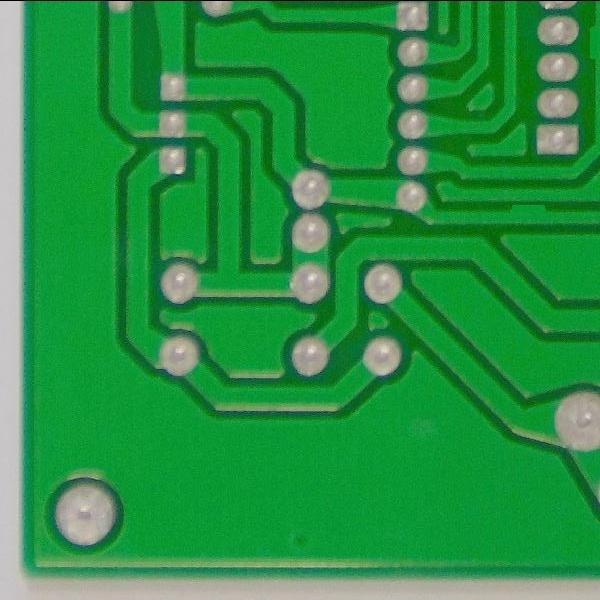spur: (501, 197, 554, 230), (585, 18, 599, 66)
